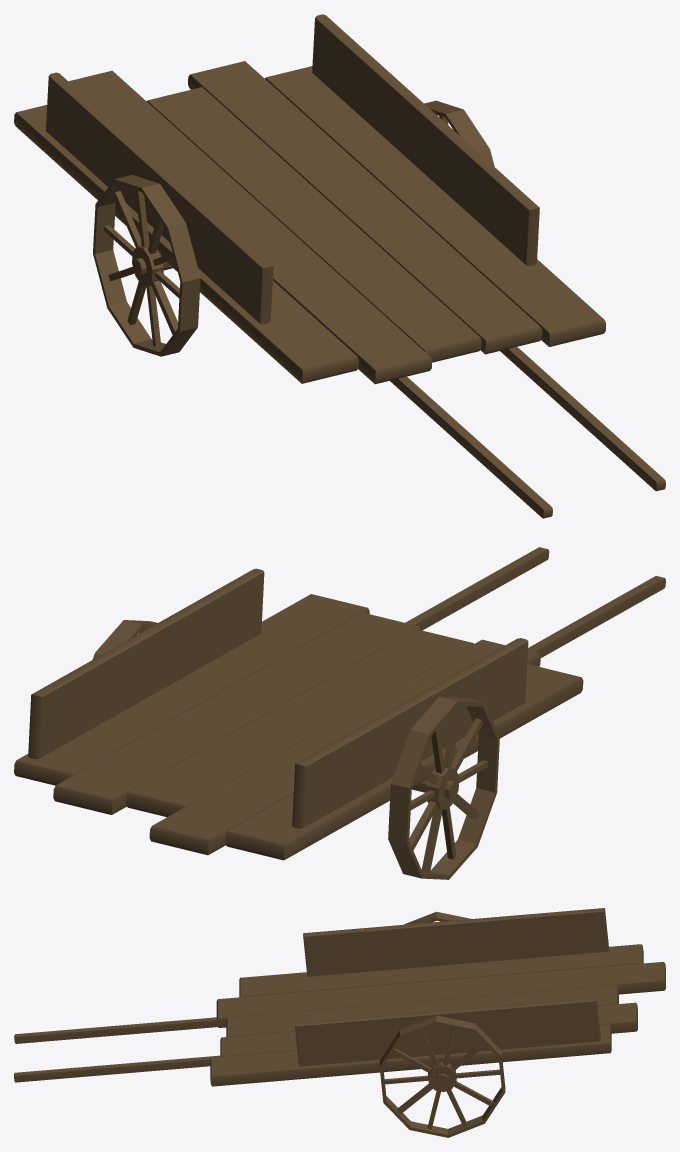
File: wagon_01.fbx
The picture shows the model from 3 angles, top to bottom: view 1: azimuth 30°, elevation 25°; view 2: azimuth 150°, elevation 25°; view 3: azimuth 270°, elevation 25°; orthographic projection. The views are drawn at different scales.
Parts seen in each view (by area): view 1: pCube11; view 2: pCube11; view 3: pCube11.
Part boxes in pixels (x1,y1,x2,y2): pCube11: [14, 14, 665, 518]; pCube11: [14, 547, 665, 879]; pCube11: [14, 908, 665, 1137].
Bounding box in the file's own units: 131 × 71.36 × 325.
